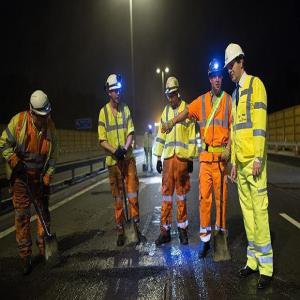blue: (209, 59, 225, 94)
white: (28, 89, 52, 130), (226, 44, 246, 85), (106, 72, 124, 105), (165, 74, 182, 106)
